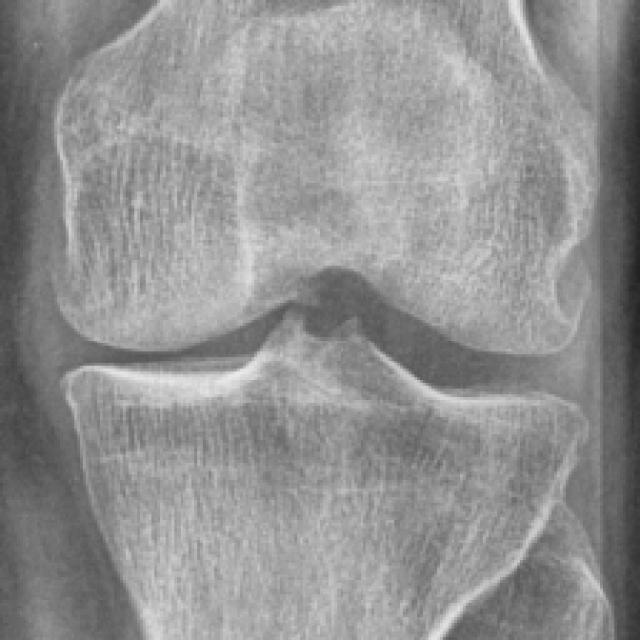femur: (51, 1, 594, 354)
tibia: (69, 317, 577, 637)
